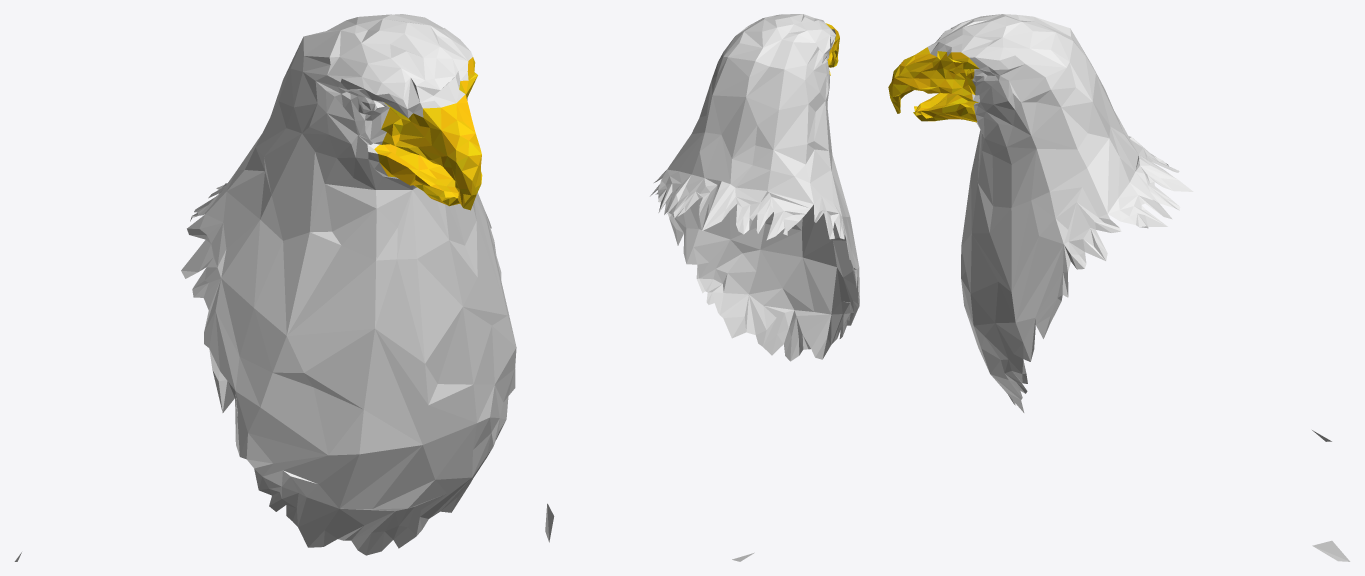
Rendered from Cabeza.obj.
3 renders of one model, left to right at view 1: azimuth 30°, elevation 25°; view 2: azimuth 150°, elevation 25°; view 3: azimuth 270°, elevation 25°, orthographic. The views are drawn at different scales.
Visible parts, largest first — view 1: aguila; view 2: aguila; view 3: aguila.
Part boxes in pixels (x1,y1,x2,y2): aguila: (14,14,516,561); aguila: (545,14,859,561); aguila: (888,14,1350,561).
Size of the model in its own units: 4.77 by 9.47 by 8.04.
